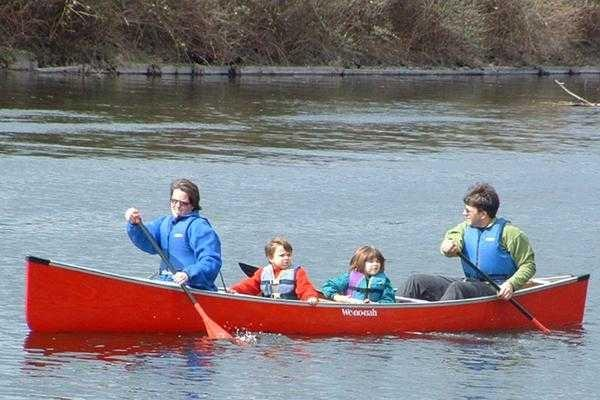kayak: (20, 256, 594, 345)
